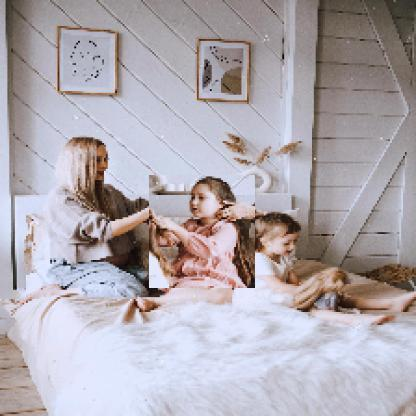child: (235, 213, 415, 330), (150, 176, 257, 290)
